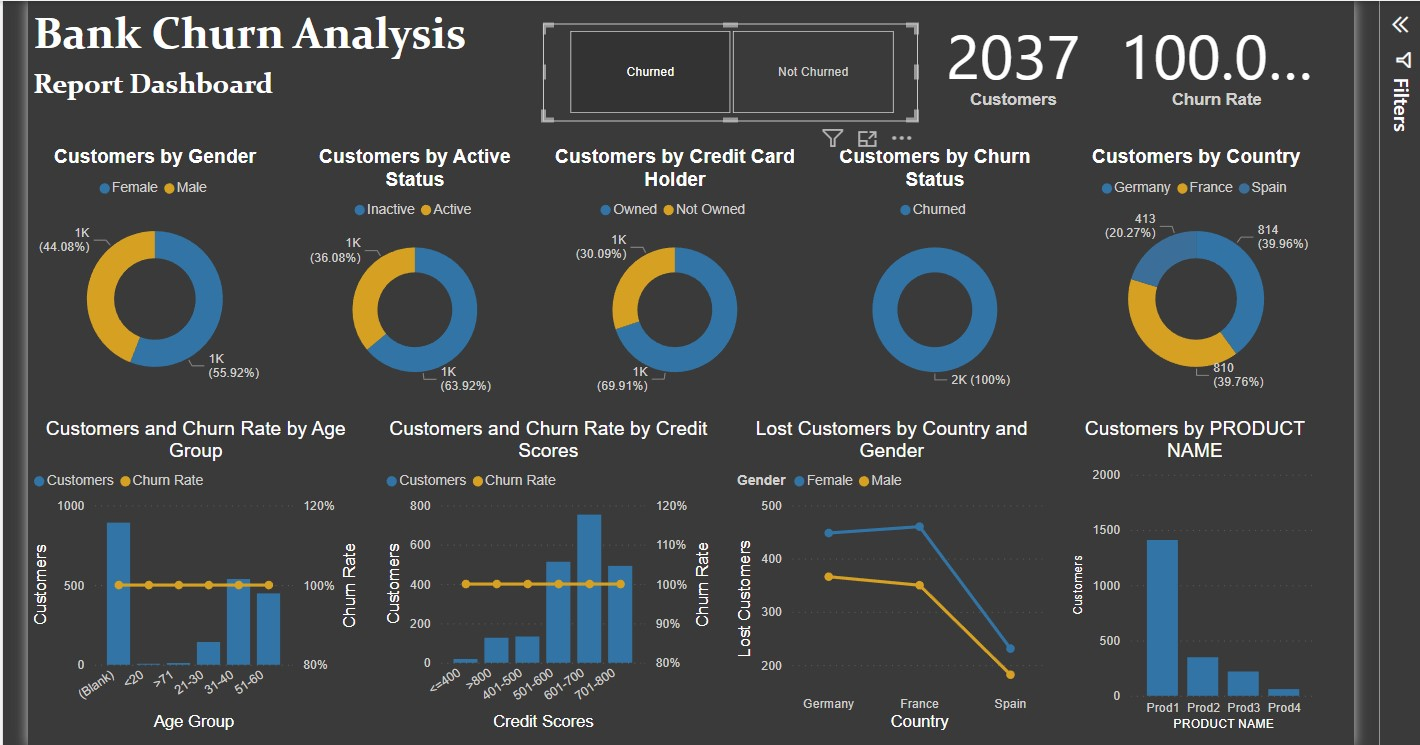

The page's visual inventory and layout, read from the dashboard file:
{"tool":"powerbi","page":{"name":"Page 1","canvas":[1280,720],"ordinal":0},"visuals":[{"type":"card","fields":{"Values":["CALCULATED MEASURES.Customers"]},"box":[843.2,0,215.4,115.3],"z":0},{"type":"card","fields":{"Values":["CALCULATED MEASURES.Churn Rate"]},"box":[1042.9,0,207.2,115.3],"z":1000},{"type":"donutChart","fields":{"Y":["CALCULATED MEASURES.Customers"],"Category":["CUSTOMER DATA.GENDER"]},"box":[0,139.7,245,245],"z":2000},{"type":"donutChart","fields":{"Category":["CUSTOMER DATA.ACTIVE STATUS"],"Y":["CALCULATED MEASURES.Customers"]},"box":[251,139.7,245,245],"z":3000},{"type":"donutChart","fields":{"Y":["CALCULATED MEASURES.Customers"],"Category":["CUSTOMER DATA.CREDIT CARD HOLDER"]},"box":[502.1,139.7,245,245],"z":4000},{"type":"donutChart","fields":{"Y":["CALCULATED MEASURES.Customers"],"Category":["CUSTOMER DATA.CHURN STATUS"]},"box":[753.1,139.7,245,245],"z":5000},{"type":"donutChart","fields":{"Y":["CALCULATED MEASURES.Customers"],"Category":["CUSTOMER DATA.COUNTRY"]},"box":[1004.2,139.7,245,245],"z":6000},{"type":"slicer","fields":{"Values":["CUSTOMER DATA.Churn Status"]},"box":[496.7,22,362.3,93.3],"z":7000},{"type":"lineClusteredColumnComboChart","fields":{"Y":["CALCULATED MEASURES.Customers"],"Category":["AGE GROUP.Age Group"],"Y2":["CALCULATED MEASURES.Churn Rate"]},"box":[0,402,323.8,307.4],"z":8000},{"type":"lineClusteredColumnComboChart","fields":{"Y":["CALCULATED MEASURES.Customers"],"Category":["Credit Score group.CREDIT SCORES"],"Y2":["CALCULATED MEASURES.Churn Rate"]},"box":[339.7,402,323.8,307.4],"z":9000},{"type":"lineChart","fields":{"Y":["CALCULATED MEASURES.Lost Customers"],"Category":["CUSTOMER DATA.Country"],"Series":["CUSTOMER DATA.Gender"]},"box":[679.4,402,308.7,307.4],"z":10000},{"type":"columnChart","fields":{"Y":["CALCULATED MEASURES.Customers"],"Category":["CUSTOMER DATA.PRODUCT NAME"]},"box":[1004,402,245,307],"z":11000},{"type":"textbox","box":[0,0,496.7,91.9],"z":12000},{"type":"textbox","box":[0,57.6,296.4,57.6],"z":13000}]}

Visuals, with their boxes on the page's 1280x720 design canvas (x1, y1, x2, y2). These are canvas units, not pixel positions in the 1420x745 screenshot, which may show the page scaled, cropped or inside an application window:
card - CALCULATED MEASURES.Customers: locate(843, 0, 1059, 115)
card - CALCULATED MEASURES.Churn Rate: locate(1043, 0, 1250, 115)
donutChart - CALCULATED MEASURES.Customers x CUSTOMER DATA.GENDER: locate(0, 140, 245, 385)
donutChart - CUSTOMER DATA.ACTIVE STATUS x CALCULATED MEASURES.Customers: locate(251, 140, 496, 385)
donutChart - CALCULATED MEASURES.Customers x CUSTOMER DATA.CREDIT CARD HOLDER: locate(502, 140, 747, 385)
donutChart - CALCULATED MEASURES.Customers x CUSTOMER DATA.CHURN STATUS: locate(753, 140, 998, 385)
donutChart - CALCULATED MEASURES.Customers x CUSTOMER DATA.COUNTRY: locate(1004, 140, 1249, 385)
slicer - CUSTOMER DATA.Churn Status: locate(497, 22, 859, 115)
lineClusteredColumnComboChart - CALCULATED MEASURES.Customers x AGE GROUP.Age Group: locate(0, 402, 324, 709)
lineClusteredColumnComboChart - CALCULATED MEASURES.Customers x Credit Score group.CREDIT SCORES: locate(340, 402, 664, 709)
lineChart - CALCULATED MEASURES.Lost Customers x CUSTOMER DATA.Country: locate(679, 402, 988, 709)
columnChart - CALCULATED MEASURES.Customers x CUSTOMER DATA.PRODUCT NAME: locate(1004, 402, 1249, 709)
textbox: locate(0, 0, 497, 92)
textbox: locate(0, 58, 296, 115)
